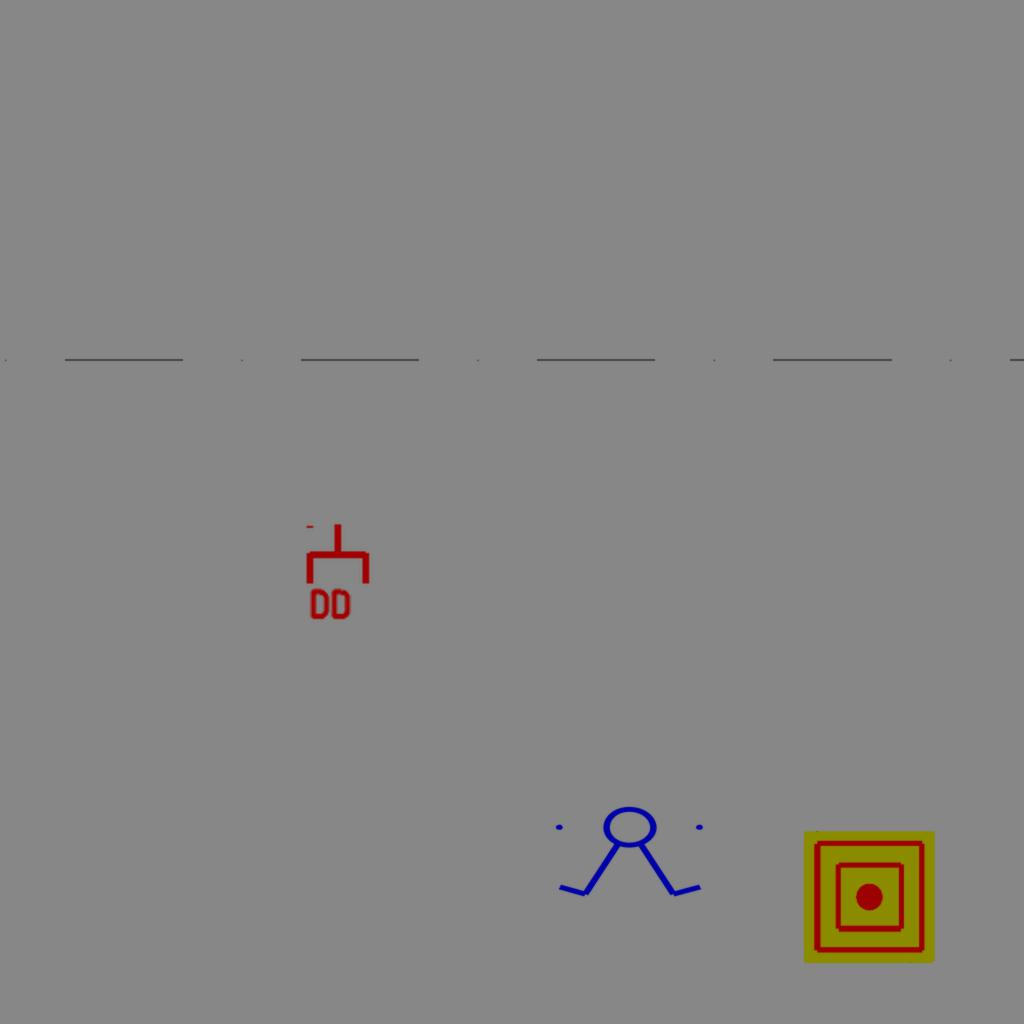Datenanschluss_zweifach: (305, 521, 374, 624)
NAM-Nichtautomatischer_Melder: (803, 831, 935, 963)
Serienschalter: (547, 805, 715, 901)
